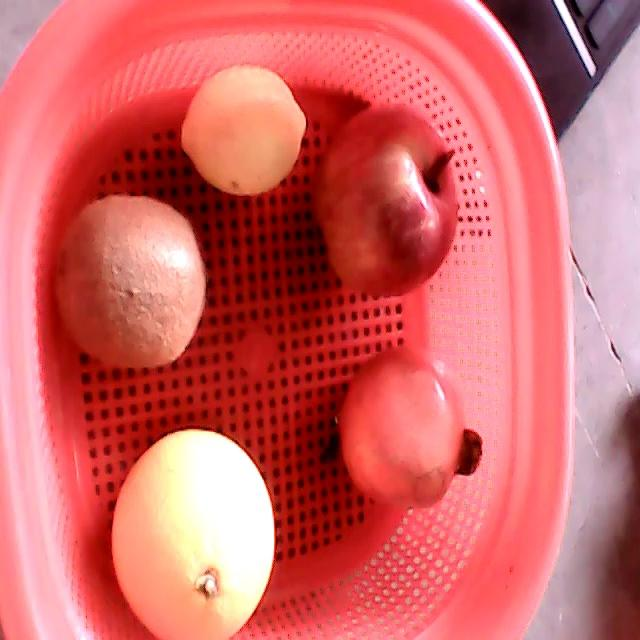apple: (312, 102, 458, 300)
kiwi: (53, 195, 206, 369)
lemon: (180, 66, 307, 195)
orange: (112, 429, 276, 639)
pomegranate: (338, 345, 484, 511)
